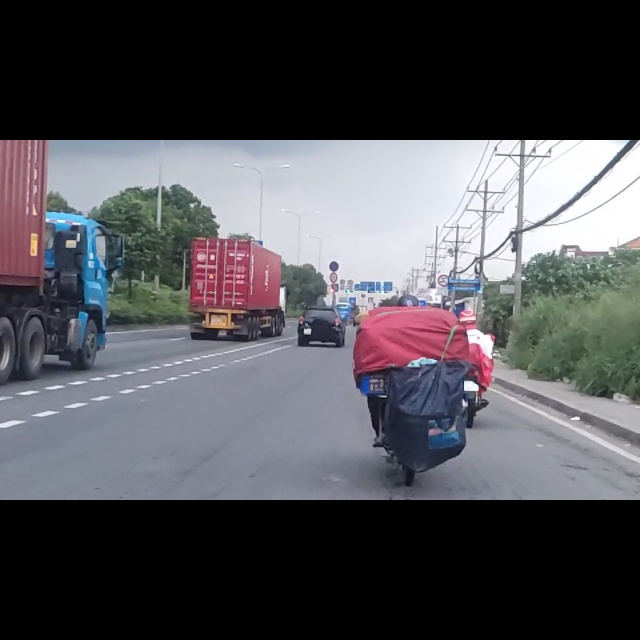bien_chi_dan: (437, 239, 449, 261), (329, 215, 339, 233)
